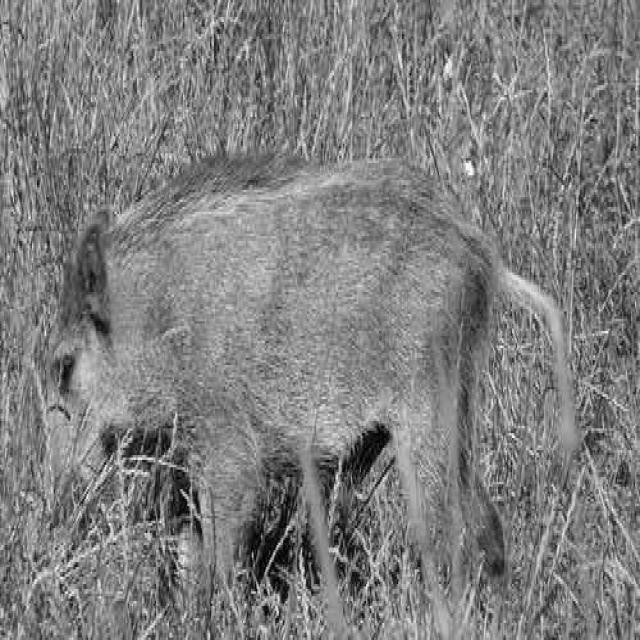boar: (46, 153, 579, 582)
